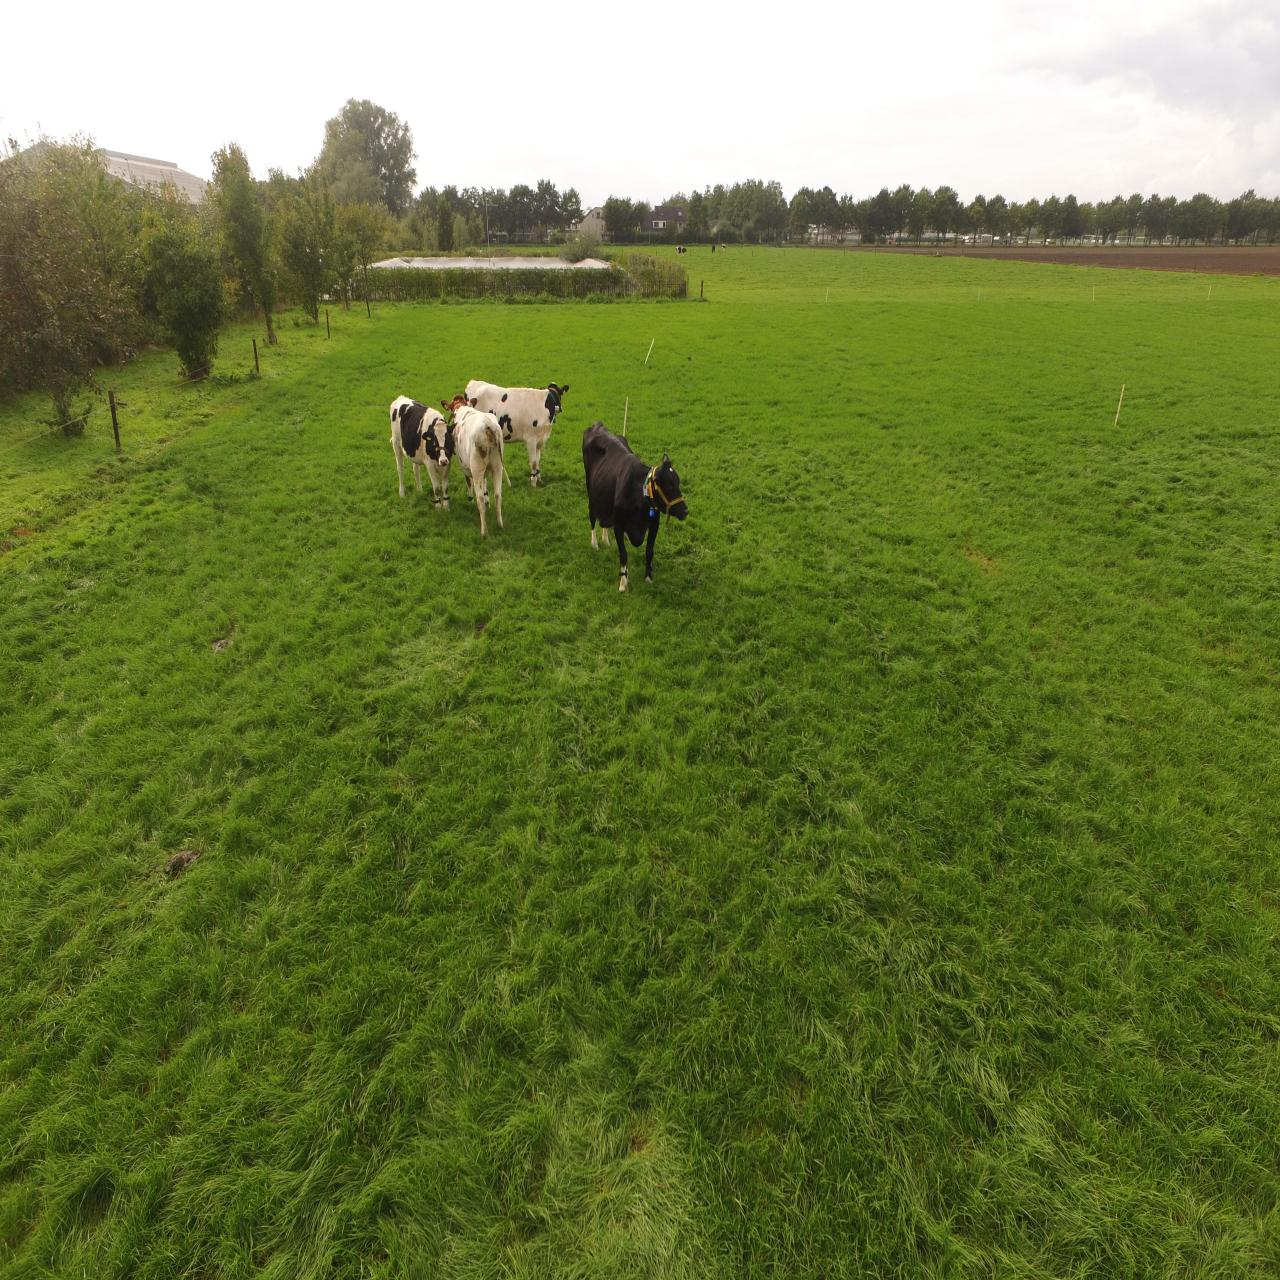cow: (582, 422, 689, 596), (463, 380, 571, 484), (438, 387, 506, 535), (389, 392, 452, 512)
